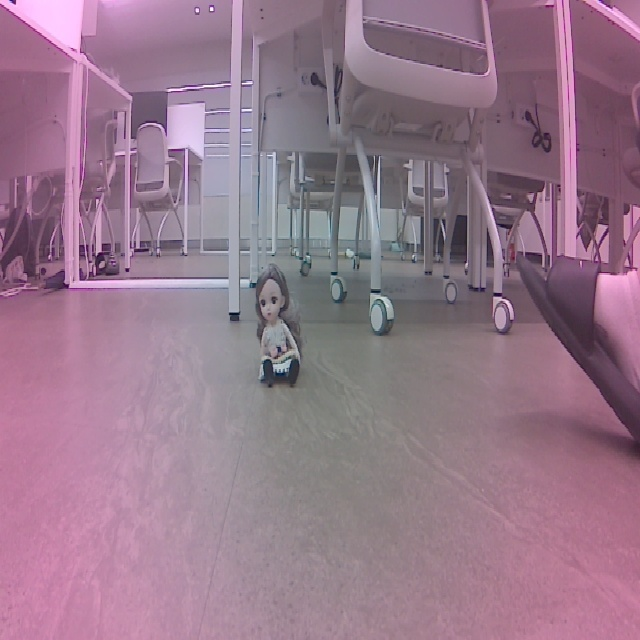장애물: (246, 257, 307, 388)
